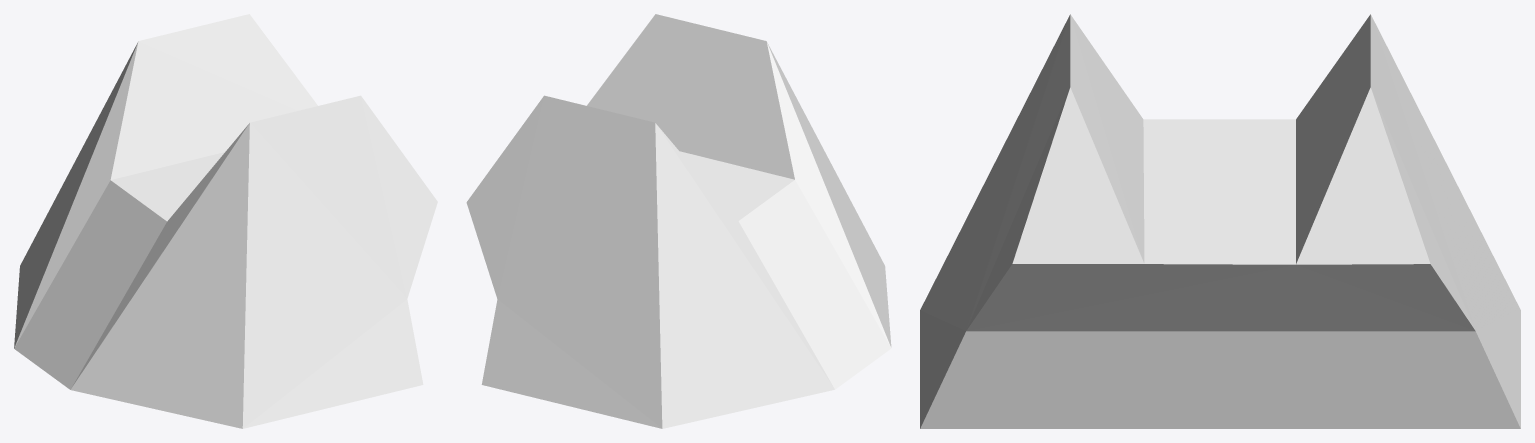
File: core.obj
3 renders of one model, left to right at view 1: azimuth 30°, elevation 25°; view 2: azimuth 150°, elevation 25°; view 3: azimuth 270°, elevation 25°, orthographic. The views are drawn at different scales.
Parts seen in each view (by area): view 1: baseOffCore_立方体.002; view 2: baseOffCore_立方体.002; view 3: baseOffCore_立方体.002.
Part boxes in pixels (x1,y1,x2,y2): baseOffCore_立方体.002: (14,14,437,428); baseOffCore_立方体.002: (466,14,891,428); baseOffCore_立方体.002: (920,14,1520,428).
Size of the model in its own units: 0.4669 by 0.3503 by 0.5652.
Materials: 1 (1 with a texture image).
